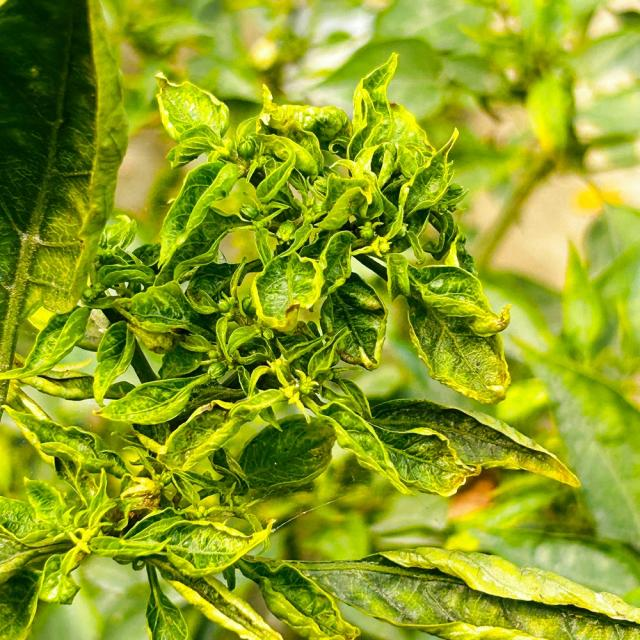Chilli_Leaf_Curl: (1, 47, 636, 638), (0, 0, 129, 409), (236, 545, 639, 638), (384, 250, 512, 404)
